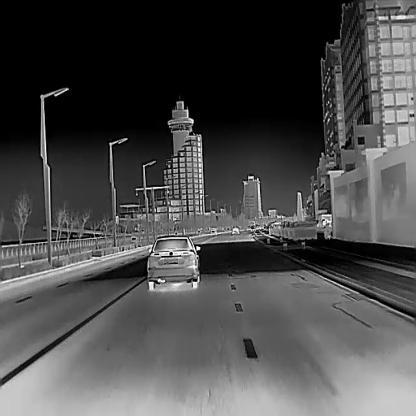car: (147, 234, 200, 289), (231, 226, 239, 235)
